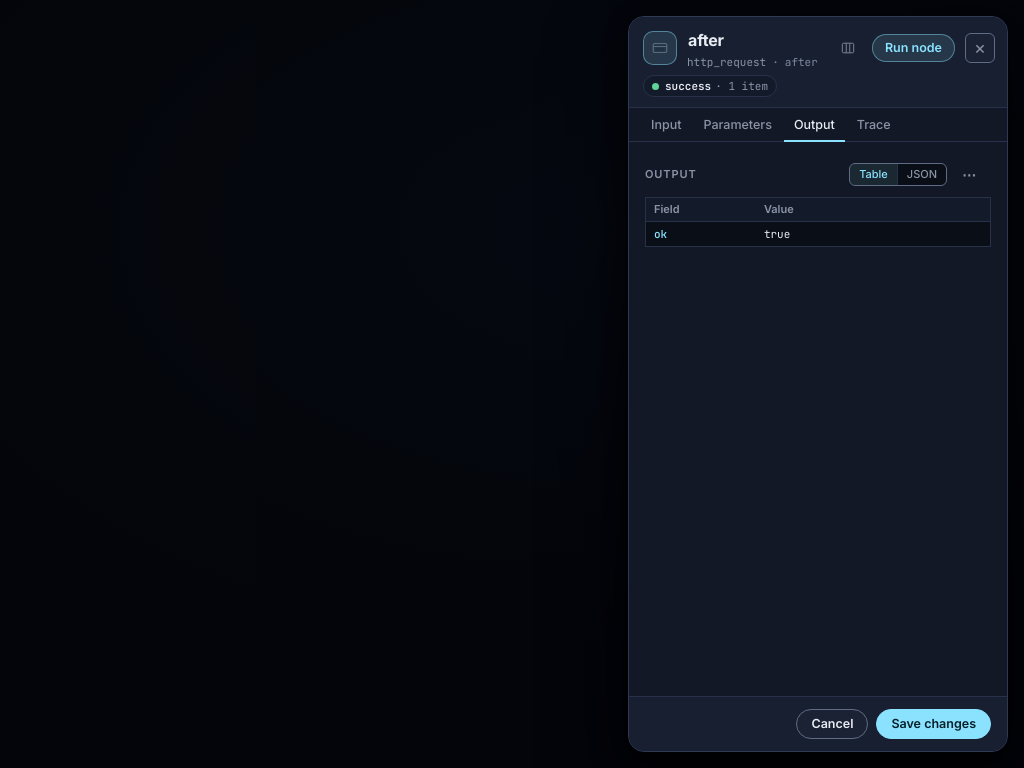
Test: a view-only inspector › makes Input fields draggable for someone who may edit
Click the tab "Parameters".
click(738, 125)  # box x1=693 y1=108 x2=782 y2=142
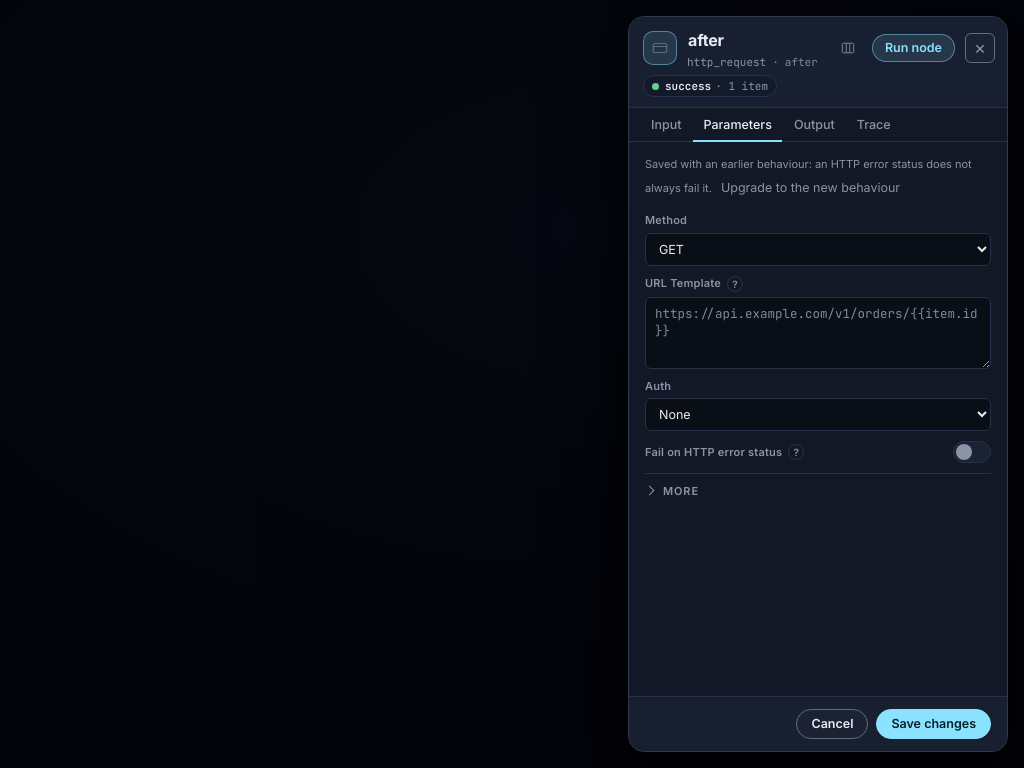
Click the tab "Input".
click(666, 125)  # box x1=641 y1=108 x2=691 y2=142
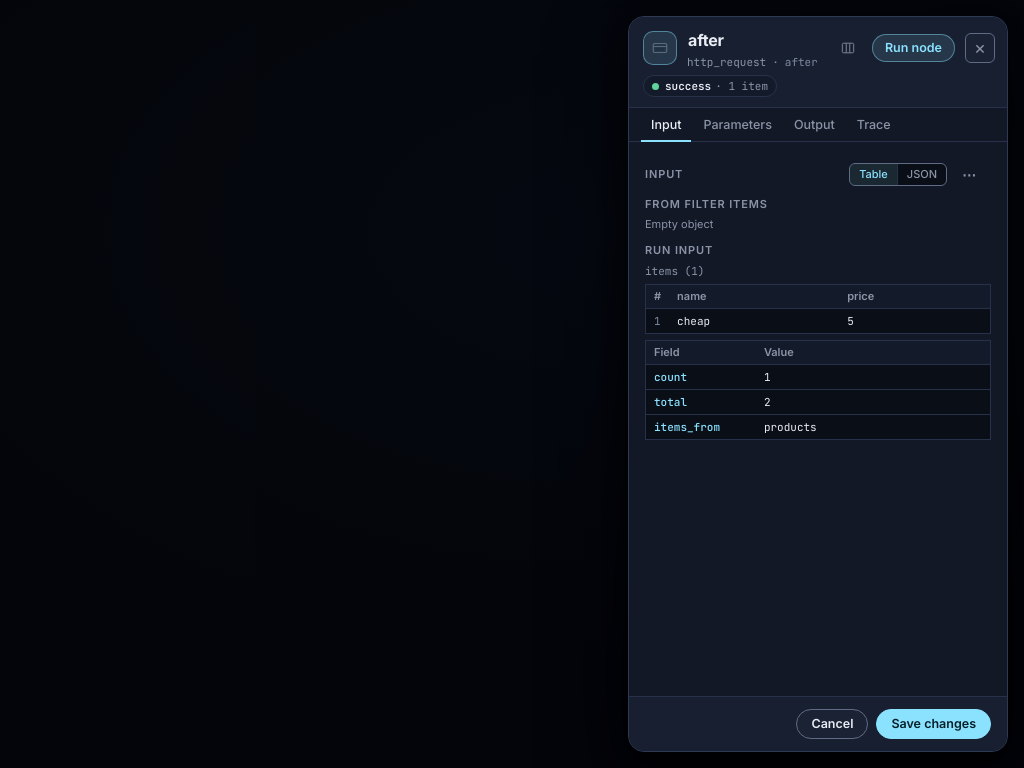
Check: the column heading "name" is shown, box x1=669 y1=284 x2=839 y2=308
